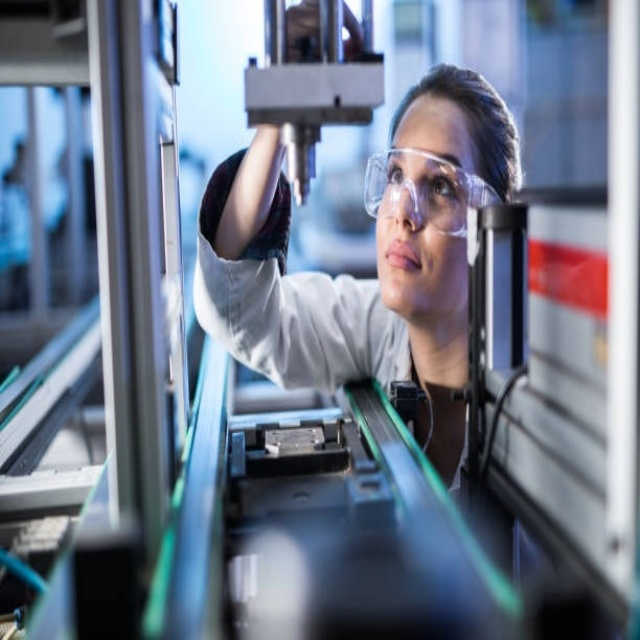Gafas: (362, 149, 501, 237)
Sin_mascara: (378, 240, 433, 300)
